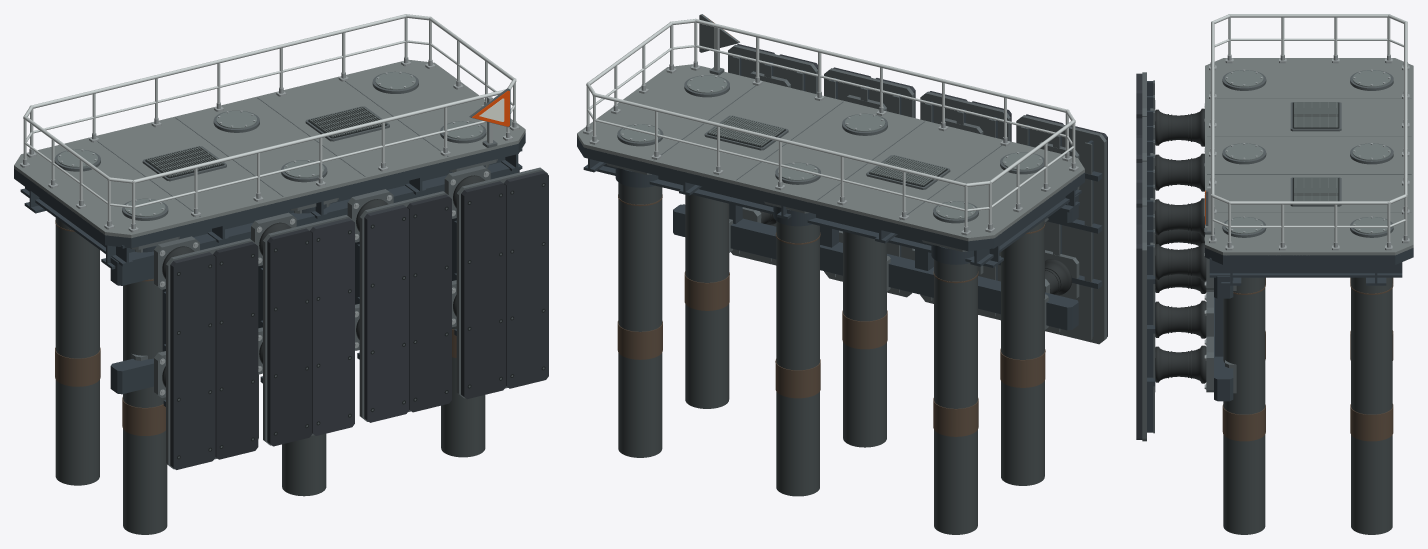
File: ferry_dolphin.glb
3 renders of one model, left to right at view 1: azimuth 30°, elevation 25°; view 2: azimuth 150°, elevation 25°; view 3: azimuth 270°, elevation 25°, orthographic. The views are drawn at different scales.
Visible parts, largest first — view 1: Flat steel working deck, Fender 01, Fender 04, Fender 03, Fender 02, Galvanized two-rail perimeter, Pile 04, Pile 01, Reaction beams and deck framing, Pile caps and inspection gratings, Pile 03, Pile 02 (+1 smaller); view 2: Flat steel working deck, Pile 06, Pile 04, Pile 05, Galvanized two-rail perimeter, Reaction beams and deck framing, Pile 01, Fender 01, Pile 03, Pile 02, Pile caps and inspection gratings, Fender 04 (+3 smaller); view 3: Flat steel working deck, Pile 06, Pile 03, Fender 04, Pile caps and inspection gratings, Galvanized two-rail perimeter, Reaction beams and deck framing, Fender 03, Fender 02, Fender 01, Orange triangular daymark.
Part boxes in pixels (bbox=[...]): Flat steel working deck: bbox=[14, 59, 525, 248]; Fender 01: bbox=[154, 236, 258, 469]; Fender 04: bbox=[444, 165, 548, 399]; Fender 03: bbox=[347, 189, 451, 422]; Fender 02: bbox=[251, 212, 354, 446]; Galvanized two-rail perimeter: bbox=[20, 14, 519, 232]; Pile 04: bbox=[55, 218, 100, 485]; Pile 01: bbox=[122, 236, 179, 534]; Reaction beams and deck framing: bbox=[20, 148, 522, 394]; Pile caps and inspection gratings: bbox=[54, 71, 486, 220]; Pile 03: bbox=[441, 159, 497, 457]; Pile 02: bbox=[282, 198, 338, 496]; Flat steel working deck: bbox=[577, 64, 1084, 251]; Pile 06: bbox=[606, 163, 662, 457]; Pile 04: bbox=[922, 240, 978, 534]; Pile 05: bbox=[764, 201, 820, 496]; Galvanized two-rail perimeter: bbox=[583, 18, 1078, 235]; Reaction beams and deck framing: bbox=[583, 158, 1081, 330]; Pile 01: bbox=[1000, 220, 1045, 485]; Fender 01: bbox=[1016, 114, 1107, 344]; Pile 03: bbox=[684, 194, 729, 408]; Pile 02: bbox=[842, 231, 887, 447]; Pile caps and inspection gratings: bbox=[617, 75, 1044, 223]; Fender 04: bbox=[728, 44, 817, 265]; Flat steel working deck: bbox=[1205, 58, 1413, 264]; Pile 06: bbox=[1350, 277, 1393, 534]; Pile 03: bbox=[1222, 277, 1265, 534]; Fender 04: bbox=[1136, 206, 1213, 441]; Pile caps and inspection gratings: bbox=[1222, 69, 1393, 237]; Galvanized two-rail perimeter: bbox=[1209, 14, 1409, 250]; Reaction beams and deck framing: bbox=[1209, 258, 1402, 401]; Fender 03: bbox=[1136, 161, 1213, 340]; Fender 02: bbox=[1136, 117, 1213, 293]; Fender 01: bbox=[1136, 72, 1204, 245]; Orange triangular daymark: bbox=[1204, 186, 1214, 234].
Size of the model in its own units: 9.55 by 7.97 by 5.77.
